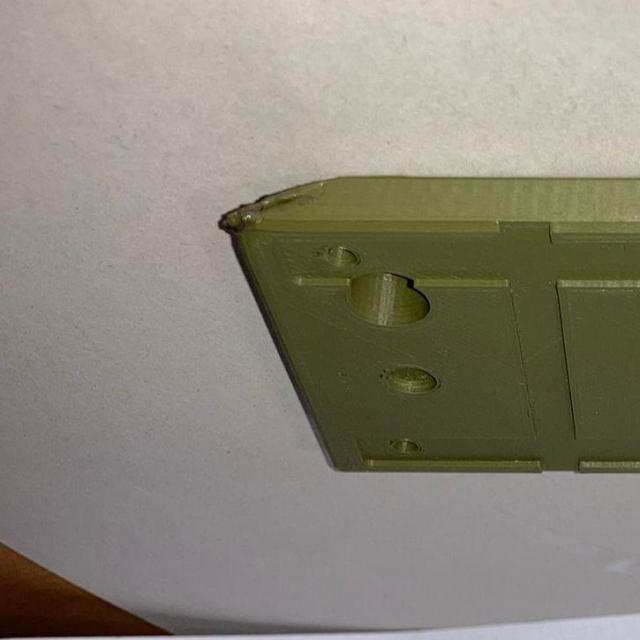Warping: (230, 173, 334, 226)
